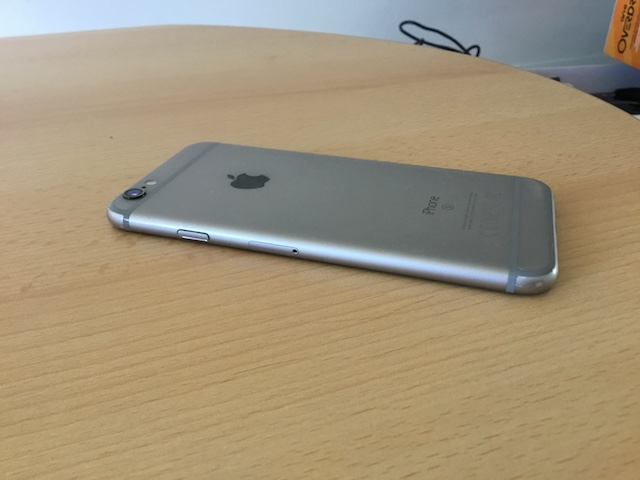phone: (103, 134, 564, 301)
